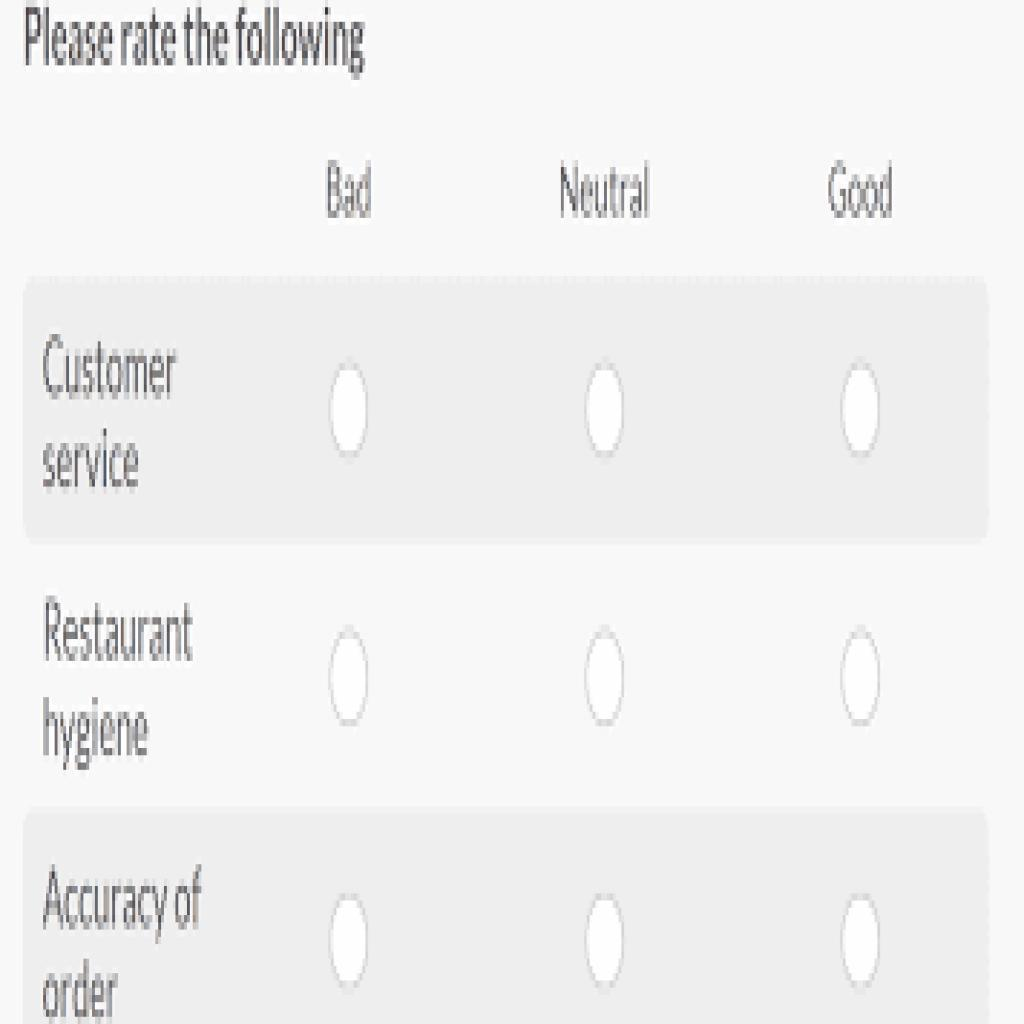label: (40, 594, 197, 774), (37, 865, 209, 1023), (37, 331, 195, 502), (23, 2, 381, 77), (561, 164, 654, 223), (824, 154, 898, 223), (321, 161, 377, 220)
radio: (578, 625, 631, 730), (835, 358, 885, 465), (327, 625, 374, 732), (581, 362, 631, 460), (838, 891, 886, 991), (327, 892, 373, 994), (840, 622, 883, 730), (327, 360, 372, 461), (585, 891, 626, 993)
